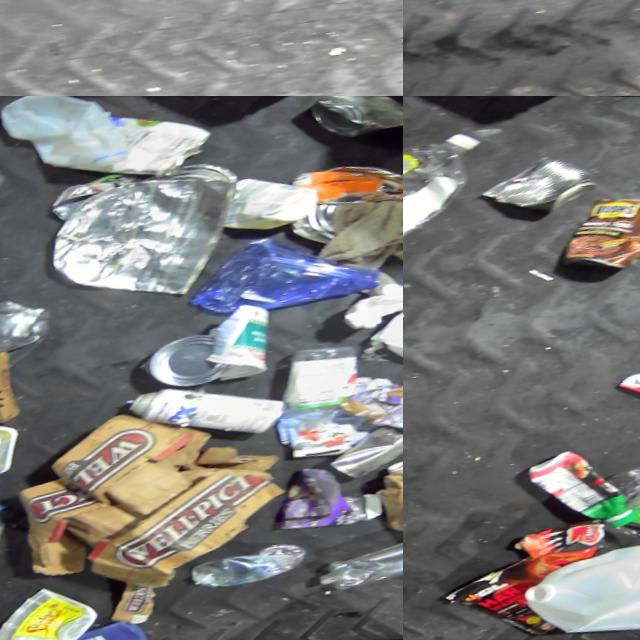can: (43, 170, 251, 316), (124, 371, 292, 456), (286, 154, 403, 257), (477, 148, 601, 226), (111, 101, 218, 185), (555, 185, 640, 281), (148, 332, 233, 394), (326, 422, 403, 485), (309, 96, 403, 146), (48, 175, 114, 222)
milk_jug: (520, 532, 640, 640), (0, 96, 132, 181), (218, 168, 320, 239), (366, 302, 403, 383)
plastic_bottle: (403, 130, 494, 257), (188, 540, 312, 595), (318, 533, 403, 596)
